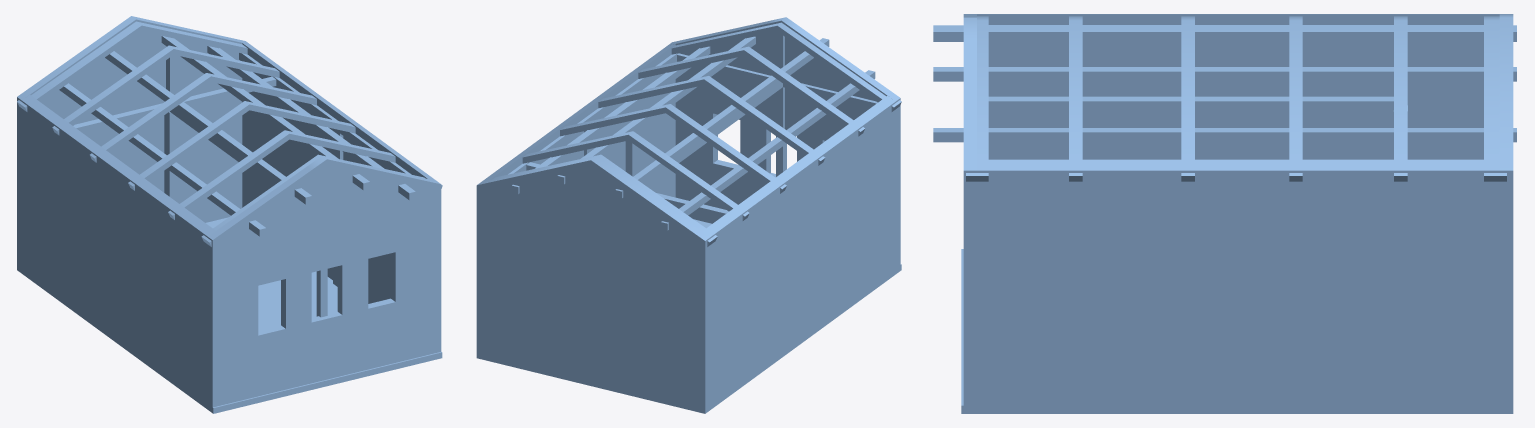
Rendered from structure.glb.
The picture shows the model from 3 angles, left to right: view 1: azimuth 30°, elevation 25°; view 2: azimuth 150°, elevation 25°; view 3: azimuth 270°, elevation 25°; orthographic projection. The views are drawn at different scales.
Visible parts, largest first — view 1: structure; view 2: structure; view 3: structure.
Part boxes in pixels (left/top/right/bottom): structure: left=17, top=16, right=442, bottom=413; structure: left=476, top=17, right=901, bottom=413; structure: left=933, top=14, right=1516, bottom=413.
Bounding box in the file's own units: 4.18 × 3.87 × 6.49.
